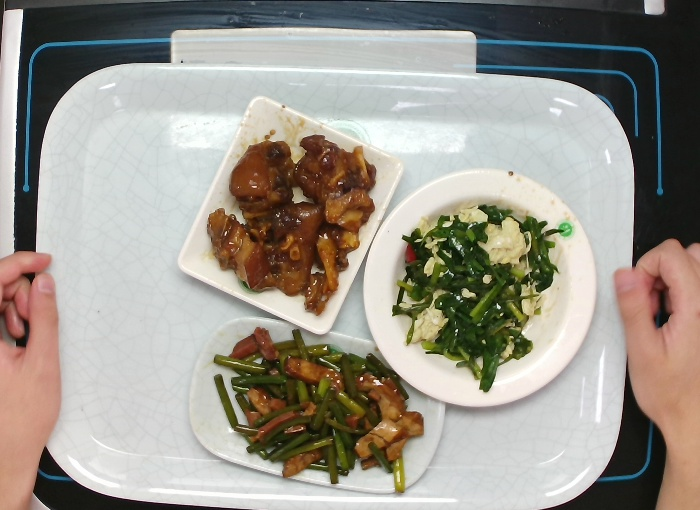WCQzf-Bai_Se_Si_Fang_Die: (170, 95, 406, 335)
WCQzf-Kuan_Bian_Yuan_Die: (360, 167, 600, 409)
WCQzf-Tuo_Yuan_Pan: (183, 314, 452, 493)
